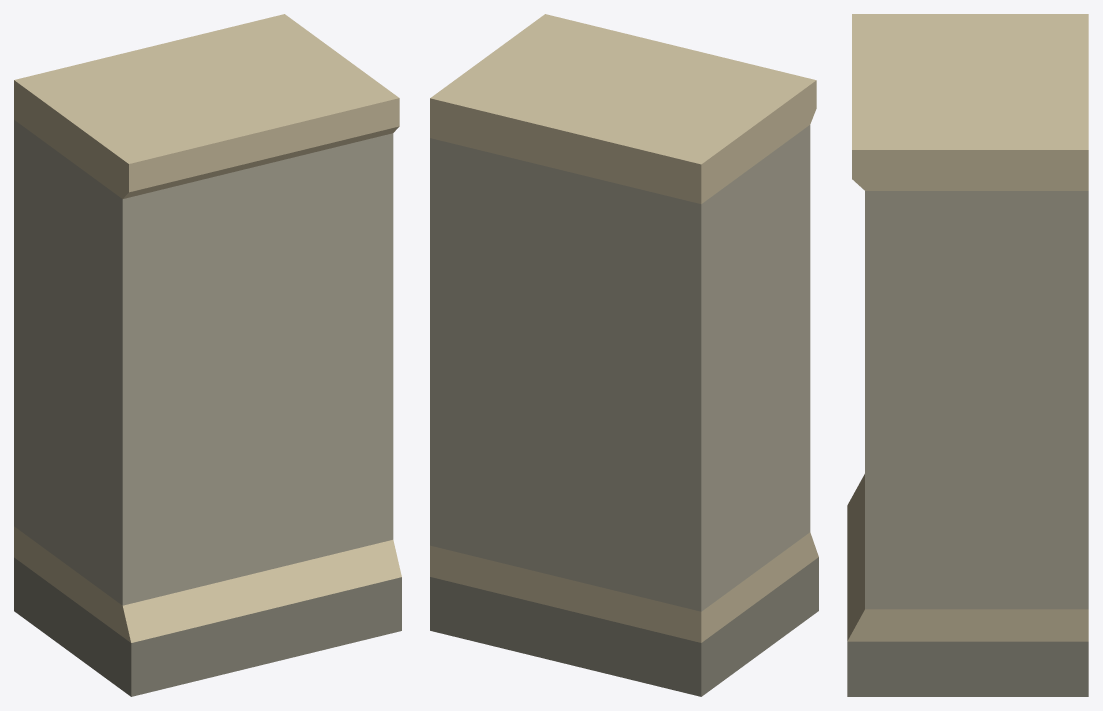
The model's file is curtain_bay.glb.
The picture shows the model from 3 angles, left to right: view 1: azimuth 30°, elevation 25°; view 2: azimuth 150°, elevation 25°; view 3: azimuth 270°, elevation 25°; orthographic projection. The views are drawn at different scales.
Parts seen in each view (by area): view 1: Curtain bay; view 2: Curtain bay; view 3: Curtain bay.
Part boxes in pixels (x1,y1,x2,y2): Curtain bay: [14, 14, 401, 696]; Curtain bay: [430, 14, 818, 696]; Curtain bay: [847, 14, 1088, 696].
Size of the model in its own units: 1 by 1.88 by 0.75.
